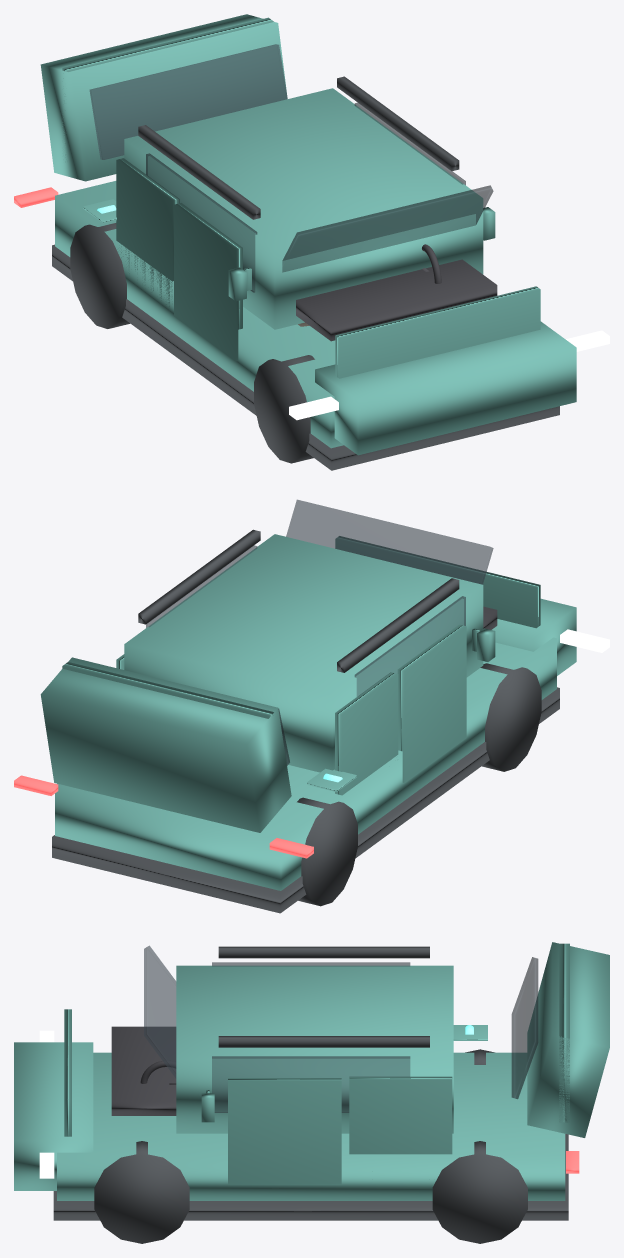
File: compact_crossover_lod.glb
3 views of the same model, one above another, from view 1: azimuth 30°, elevation 25°; view 2: azimuth 150°, elevation 25°; view 3: azimuth 270°, elevation 25° (orthographic). The views are drawn at different scales.
Visible parts, largest first — view 1: cab, hatch, nose, base, rear_window, frunk, dash, door_fl, windshield, cladding, door_rl, wheel_rl (+7 smaller); view 2: cab, hatch, base, cladding, door_fl, windshield, door_rl, wheel_fl, wheel_rl, frunk, nose, window_glass (+9 smaller); view 3: cab, base, hatch, door_fr, nose, door_rr, wheel_fr, wheel_rr, cladding, dash, window_glass.001, windshield (+9 smaller).
Boxes of the visible parts, box(x1,y1,x2,y2) form: cab: box(124, 88, 483, 329); hatch: box(40, 14, 287, 181); nose: box(315, 321, 576, 455); base: box(55, 181, 343, 448); rear_window: box(89, 44, 287, 159); frunk: box(335, 286, 540, 378); dash: box(296, 259, 497, 341); door_fl: box(174, 203, 242, 361); windshield: box(282, 185, 493, 272); cladding: box(52, 244, 559, 470); door_rl: box(116, 158, 179, 310); wheel_rl: box(70, 223, 129, 328); cab: box(124, 534, 483, 772); hatch: box(40, 657, 291, 832); base: box(55, 637, 556, 890); cladding: box(52, 687, 559, 913); door_fl: box(397, 624, 466, 782); windshield: box(286, 499, 493, 584); door_rl: box(335, 672, 398, 795); wheel_fl: box(480, 663, 541, 771); wheel_rl: box(297, 797, 357, 906); frunk: box(335, 536, 540, 628); nose: box(492, 598, 576, 675); window_glass: box(354, 596, 465, 696); cab: box(176, 965, 453, 1133); base: box(57, 1052, 565, 1200); hatch: box(527, 942, 609, 1137); door_fr: box(228, 1078, 341, 1184); nose: box(14, 1042, 93, 1190); door_rr: box(349, 1076, 452, 1154); wheel_fr: box(94, 1141, 189, 1243); wheel_rr: box(432, 1141, 527, 1243); cladding: box(53, 1134, 568, 1220); dash: box(111, 1026, 176, 1115); window_glass.001: box(212, 1056, 410, 1112); windshield: box(144, 945, 176, 1078).
Size of the model in its own units: 2.52 by 1.69 by 4.51.
